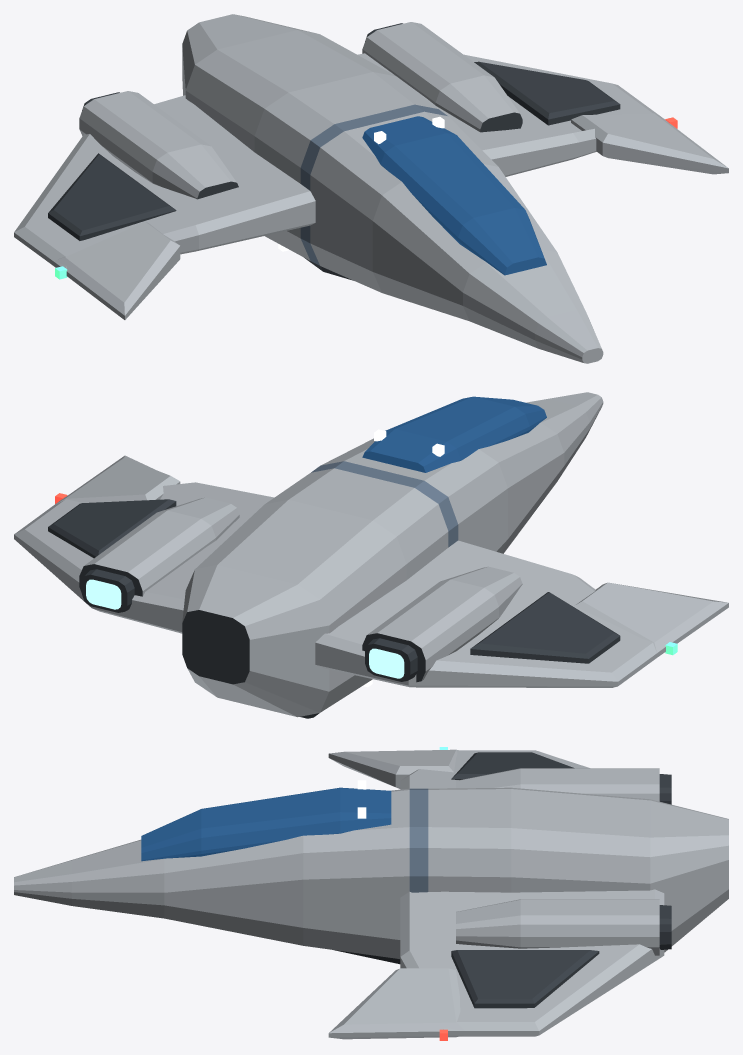
File: eagle.glb
3 renders of one model, top to bottom at view 1: azimuth 30°, elevation 25°; view 2: azimuth 150°, elevation 25°; view 3: azimuth 270°, elevation 25°, orthographic. The views are drawn at different scales.
Parts seen in each view (by area): view 1: eagle; view 2: eagle; view 3: eagle.
Part boxes in pixels (bbox=[...]): eagle: bbox=[14, 14, 728, 363]; eagle: bbox=[14, 392, 728, 718]; eagle: bbox=[14, 747, 728, 1040].
Bounding box in the file's own units: 29.27 × 7.89 × 30.9.
